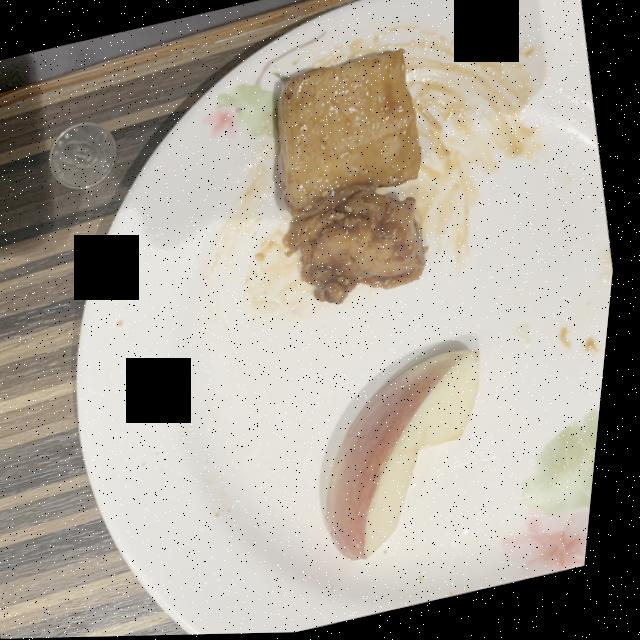apple -sliced-: (336, 352, 486, 562)
coin: (51, 122, 118, 190)
creamy tofu: (278, 51, 430, 306)
